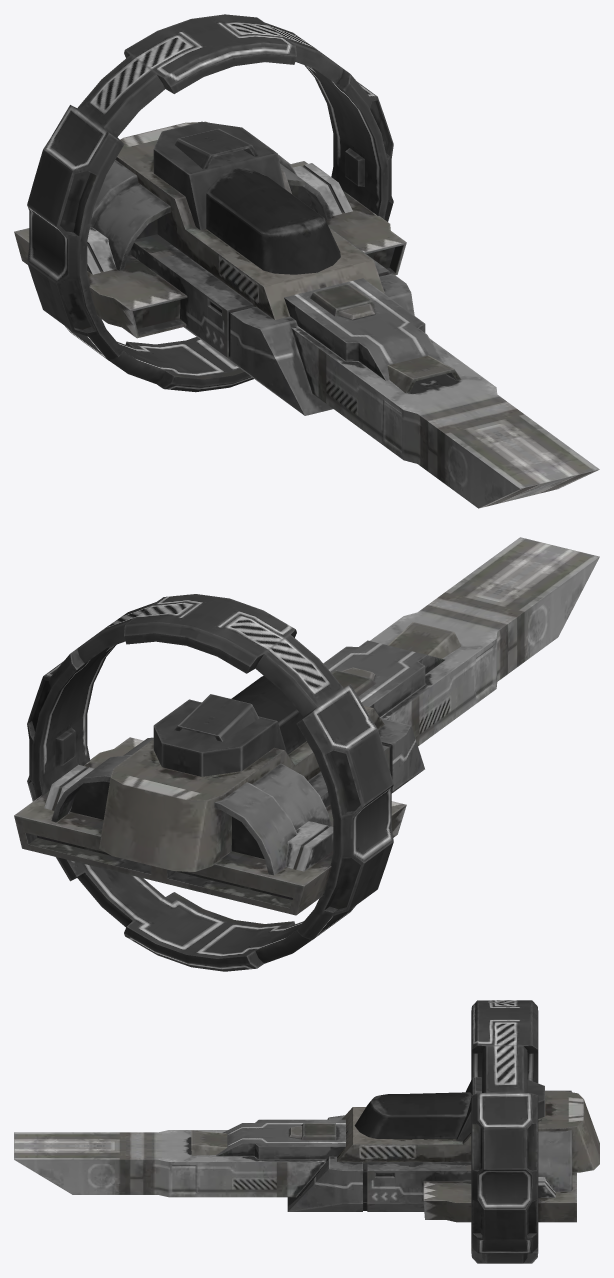
File: zenith.glb
3 views of the same model, one above another, from view 1: azimuth 30°, elevation 25°; view 2: azimuth 150°, elevation 25°; view 3: azimuth 270°, elevation 25° (orthographic). The views are drawn at different scales.
Visible parts, largest first — view 1: Zenith; view 2: Zenith; view 3: Zenith.
Boxes of the visible parts, box(x1,y1,x2,y2) form: Zenith: box(14, 14, 599, 508); Zenith: box(14, 537, 599, 971); Zenith: box(14, 1000, 599, 1263).
Size of the model in its own units: 5.63 by 5.43 by 12.07.
Materials: 1 (1 with a texture image).
